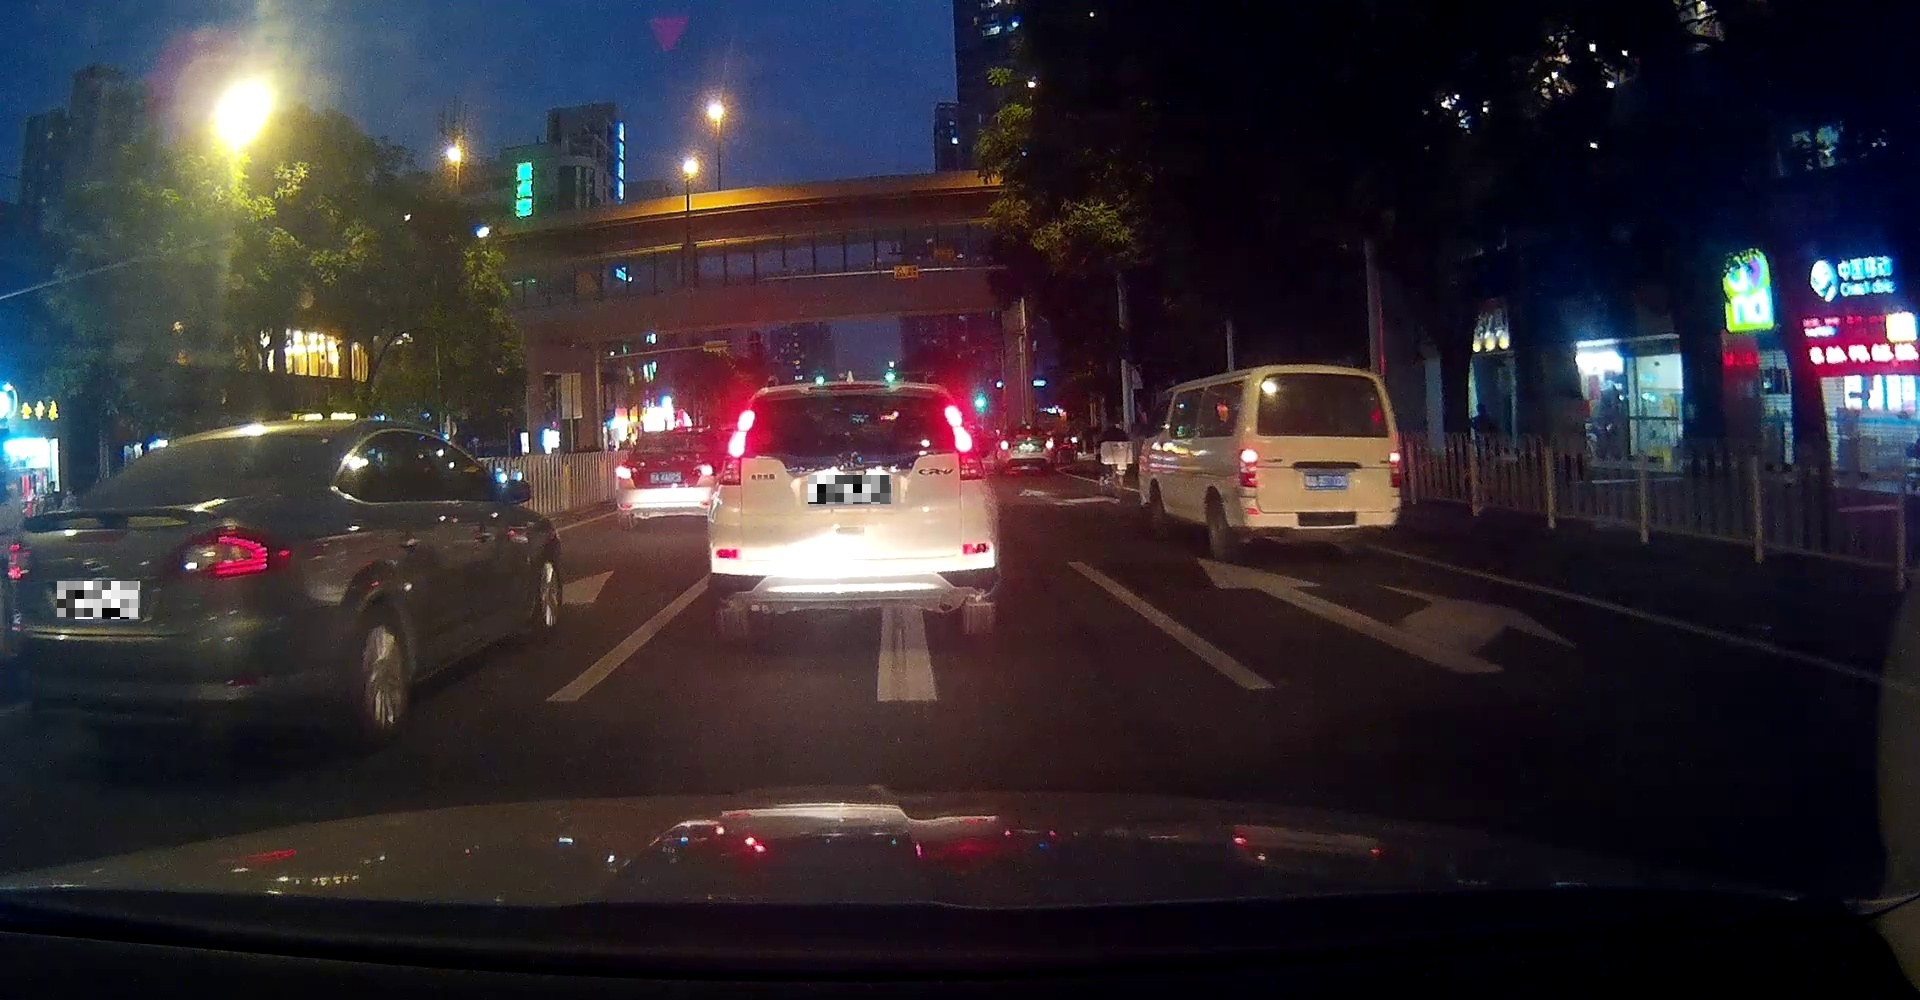L_light: (716, 410, 756, 485), (8, 543, 41, 582), (1238, 448, 1258, 487)
R_light: (166, 524, 295, 577), (943, 404, 985, 480), (1390, 451, 1401, 487)
T_light: (810, 383, 888, 390), (196, 442, 248, 447), (1310, 373, 1336, 378)
night-no: (5, 420, 333, 744), (706, 379, 1001, 636), (1234, 363, 1404, 558)
plate_1: (57, 581, 140, 619)
plate_2: (808, 475, 891, 504)
